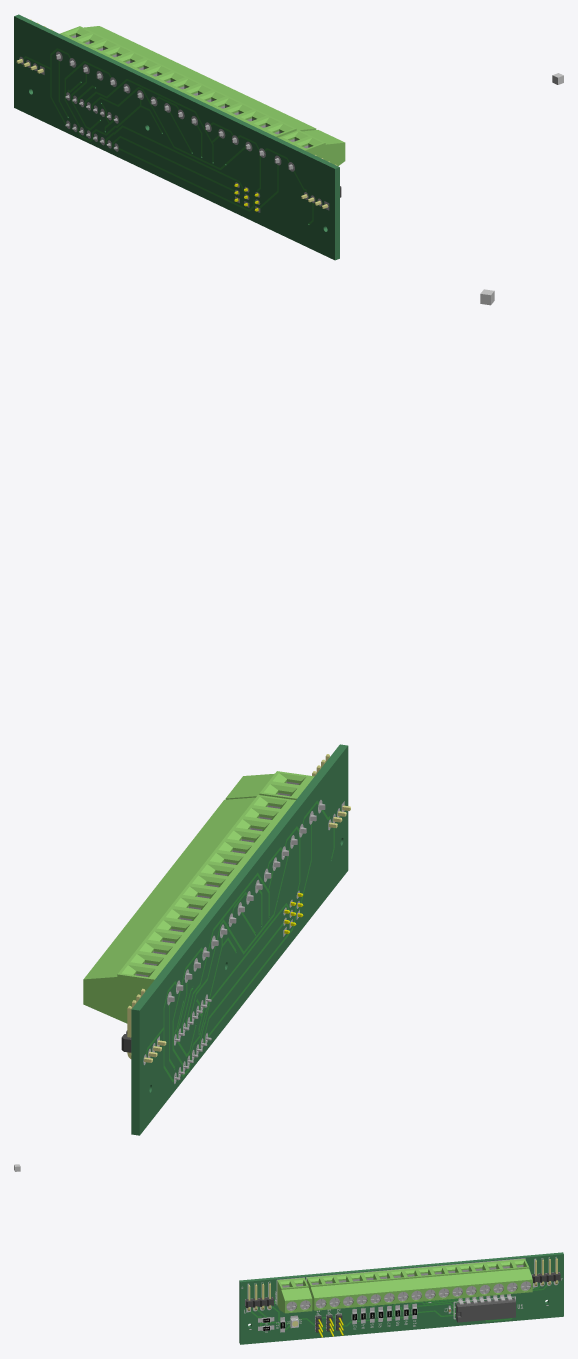
3 views of the same model, one above another, from view 1: azimuth 30°, elevation 25°; view 2: azimuth 150°, elevation 25°; view 3: azimuth 270°, elevation 25° (orthographic). The views are drawn at different scales.
Parts seen in each view (by area): view 1: Shape_IndexedFaceSet_164, Shape_IndexedFaceSet_167, Shape_IndexedFaceSet_168, Shape_IndexedFaceSet_155, Shape_IndexedFaceSet_133, Shape_IndexedFaceSet_137, Shape_IndexedFaceSet_135, Shape_IndexedFaceSet_141, Shape_IndexedFaceSet_139, Shape_IndexedFaceSet_143, Shape_IndexedFaceSet_145, Shape_IndexedFaceSet_153 (+9 smaller); view 2: Shape_IndexedFaceSet_164, Shape_IndexedFaceSet_167, Shape_IndexedFaceSet_119, Shape_IndexedFaceSet_168; view 3: Shape_IndexedFaceSet_164, Shape_IndexedFaceSet_016, Shape_IndexedFaceSet_170, Shape_IndexedFaceSet_165, Shape_IndexedFaceSet_166, Shape_IndexedFaceSet_155, Shape_IndexedFaceSet_133, Shape_IndexedFaceSet_153, Shape_IndexedFaceSet_147, Shape_IndexedFaceSet_137, Shape_IndexedFaceSet_143, Shape_IndexedFaceSet_127 (+11 smaller).
Boxes of the visible parts, x1,y1,x2,y2 form: Shape_IndexedFaceSet_164: [14, 14, 339, 260]; Shape_IndexedFaceSet_167: [23, 48, 313, 225]; Shape_IndexedFaceSet_168: [19, 51, 329, 212]; Shape_IndexedFaceSet_155: [292, 136, 345, 166]; Shape_IndexedFaceSet_133: [262, 122, 316, 137]; Shape_IndexedFaceSet_137: [235, 109, 288, 123]; Shape_IndexedFaceSet_135: [249, 115, 301, 129]; Shape_IndexedFaceSet_141: [208, 96, 261, 110]; Shape_IndexedFaceSet_139: [222, 103, 274, 117]; Shape_IndexedFaceSet_143: [195, 90, 247, 104]; Shape_IndexedFaceSet_145: [181, 83, 234, 97]; Shape_IndexedFaceSet_153: [278, 130, 331, 143]; Shape_IndexedFaceSet_164: [131, 744, 348, 1135]; Shape_IndexedFaceSet_167: [146, 800, 334, 1082]; Shape_IndexedFaceSet_119: [83, 963, 163, 1023]; Shape_IndexedFaceSet_168: [143, 800, 344, 1083]; Shape_IndexedFaceSet_164: [239, 1252, 563, 1344]; Shape_IndexedFaceSet_016: [456, 1298, 515, 1322]; Shape_IndexedFaceSet_170: [241, 1257, 562, 1332]; Shape_IndexedFaceSet_165: [250, 1284, 547, 1330]; Shape_IndexedFaceSet_166: [246, 1281, 558, 1332]; Shape_IndexedFaceSet_155: [277, 1279, 298, 1313]; Shape_IndexedFaceSet_133: [306, 1276, 327, 1310]; Shape_IndexedFaceSet_153: [291, 1278, 312, 1312]; Shape_IndexedFaceSet_147: [416, 1267, 437, 1301]; Shape_IndexedFaceSet_137: [334, 1274, 355, 1308]; Shape_IndexedFaceSet_143: [375, 1270, 396, 1304]; Shape_IndexedFaceSet_127: [457, 1263, 478, 1297].
Bounding box in the file's own units: 43.12 × 197 × 78.25.
